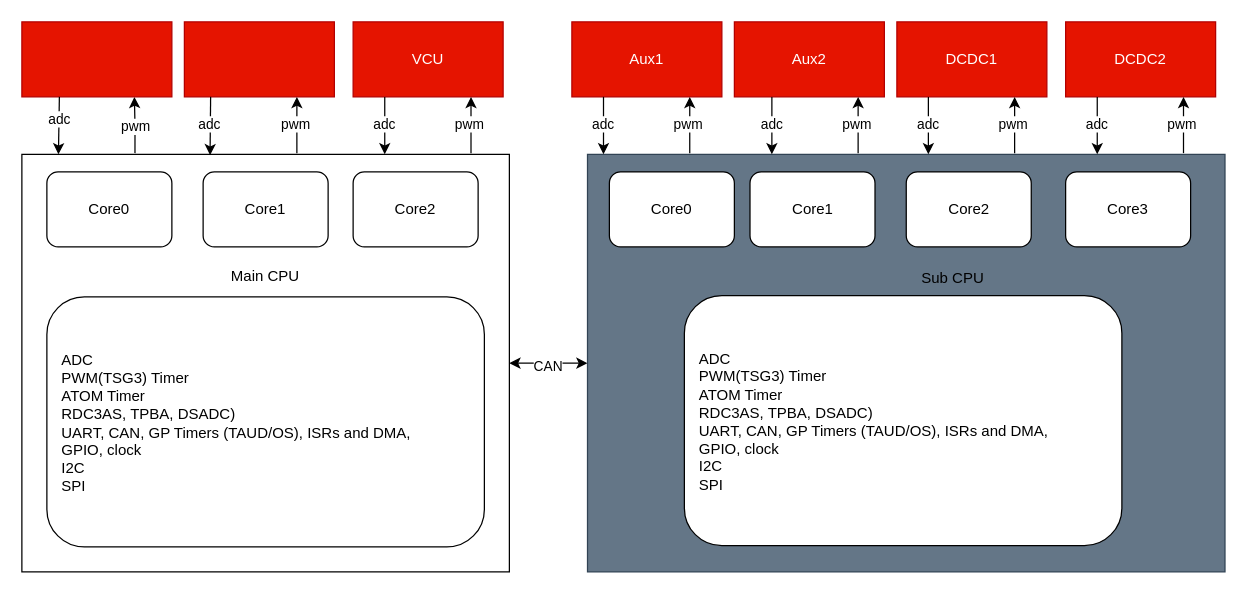
Image size: 1248x594. Some labels were removed from this diagram. Here are the shapes that lost their labels. From the top down, the centre of each, then its label:
the point at 96,59: Inv1
the point at 258,59: Inv2
